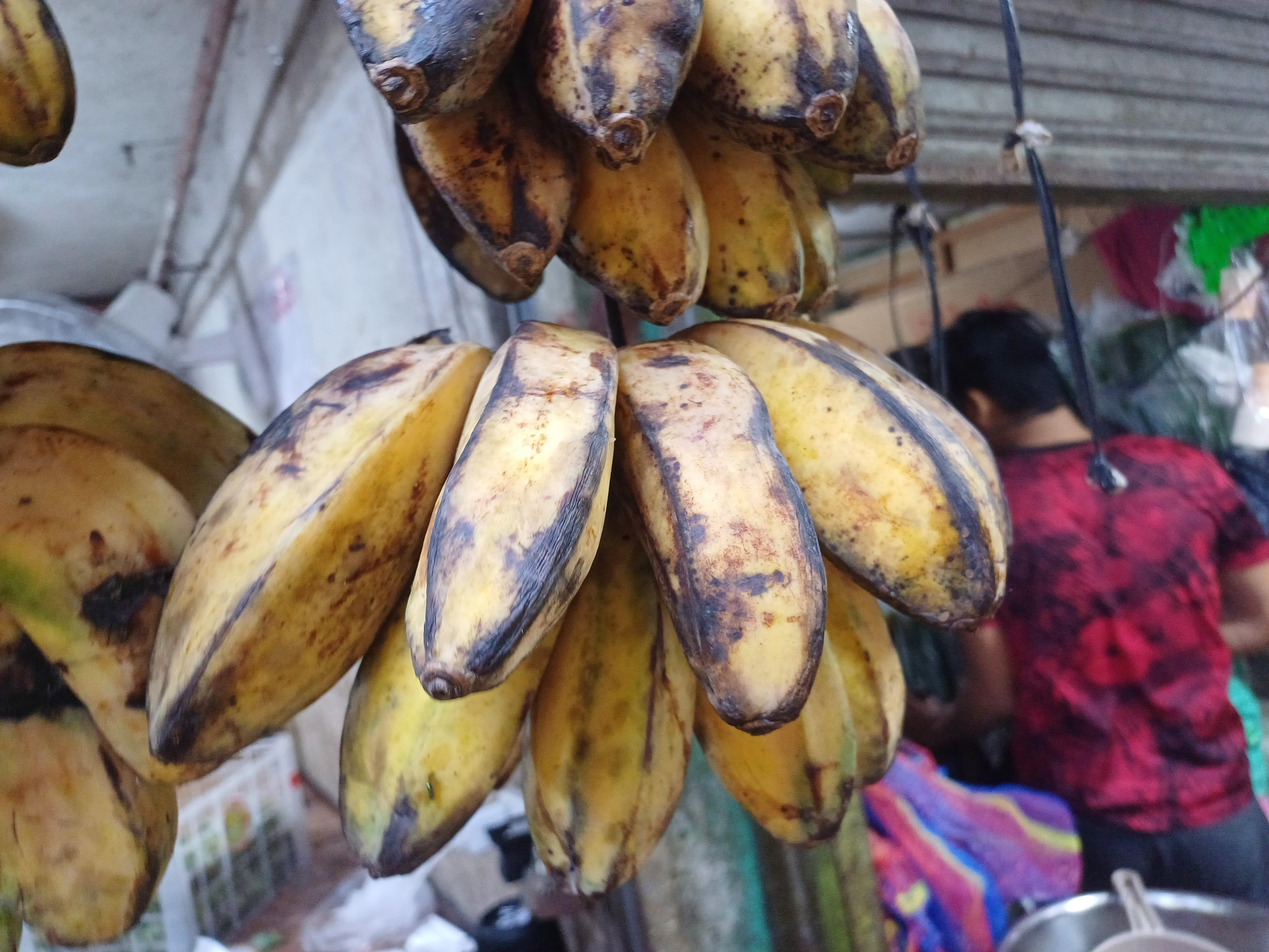ripe: (148, 320, 1010, 895), (339, 0, 923, 324), (2, 340, 261, 952)
